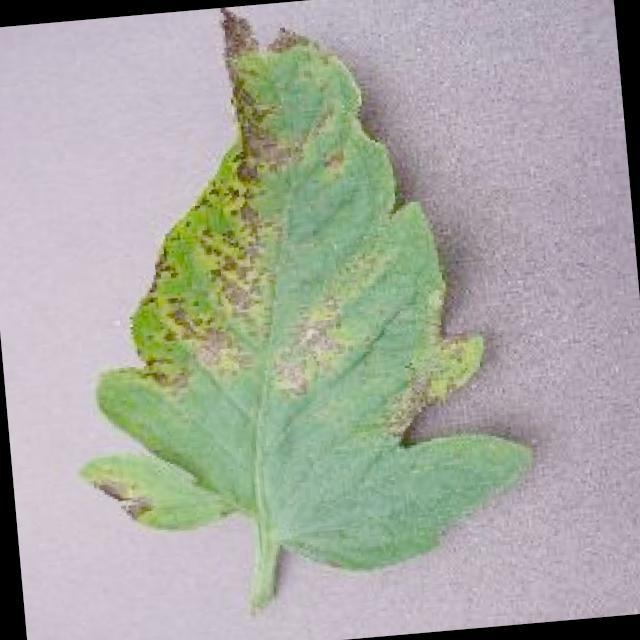Tomato Septoria spot leaf: (47, 0, 553, 595)
